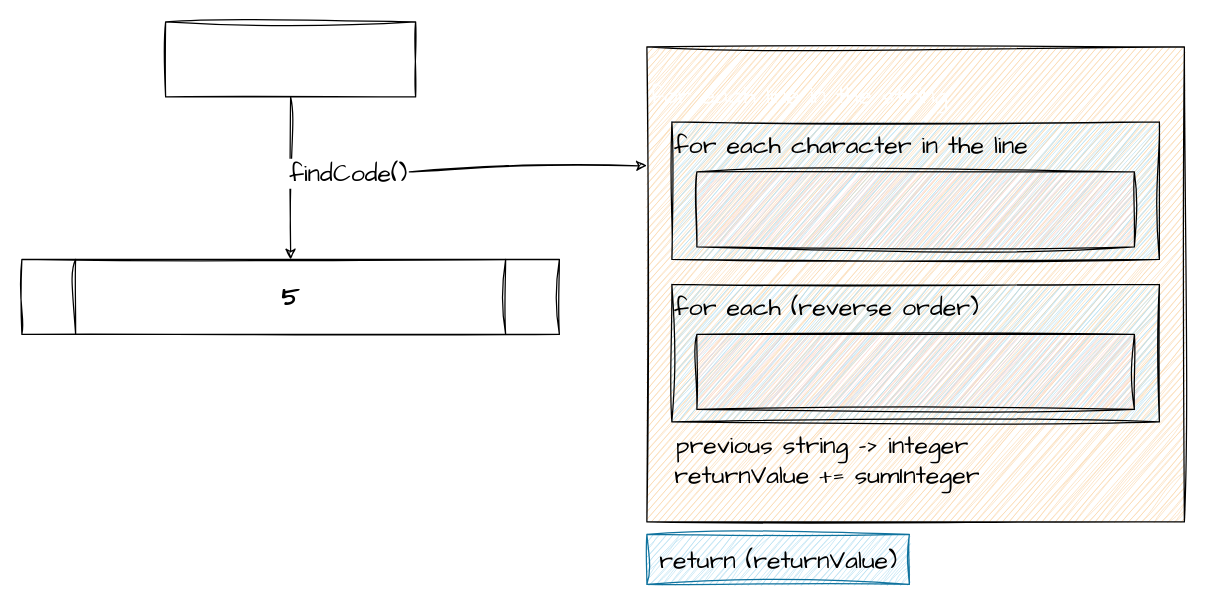
The diagram is 1206 pixels wide and 606 high, and some of its shapes have lost their labels. The centre of each missing label's shape, as x and y in pixels:
12amongus34: (x=290, y=59)
check if the char is a number: if so, append to the previous string: (x=915, y=371)
check if the char is a number: if so, save the number as string: (x=915, y=209)
